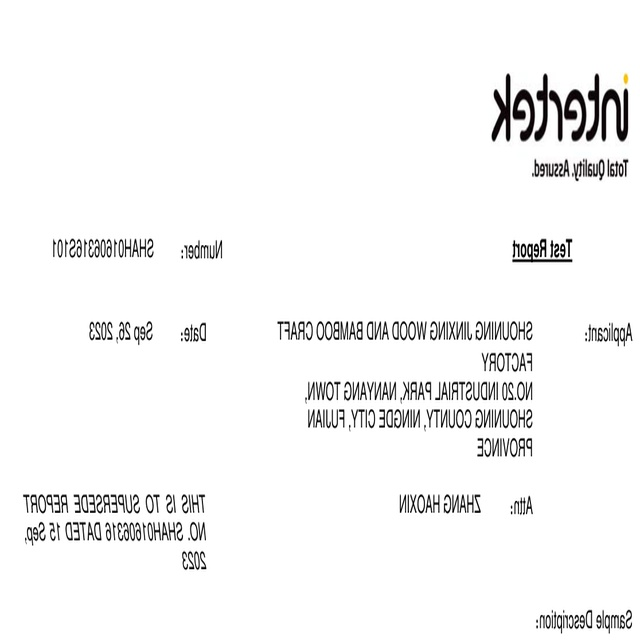intertek: (485, 65, 640, 149)
